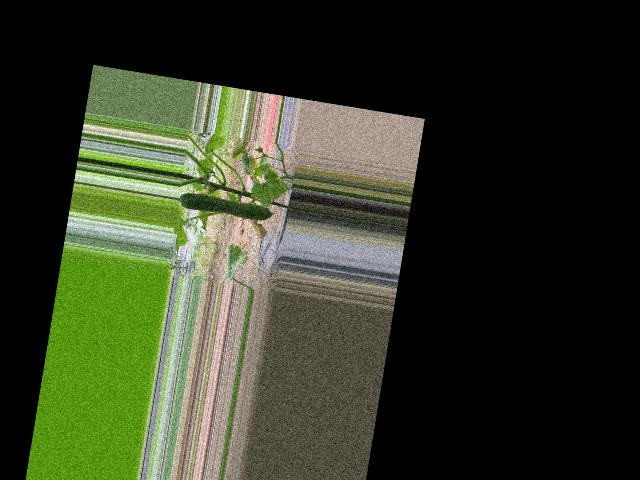cucumber: (178, 191, 276, 223)
